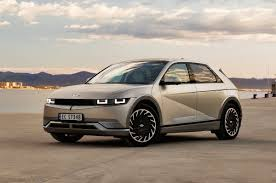Honda Ioniq: (38, 50, 244, 153)
